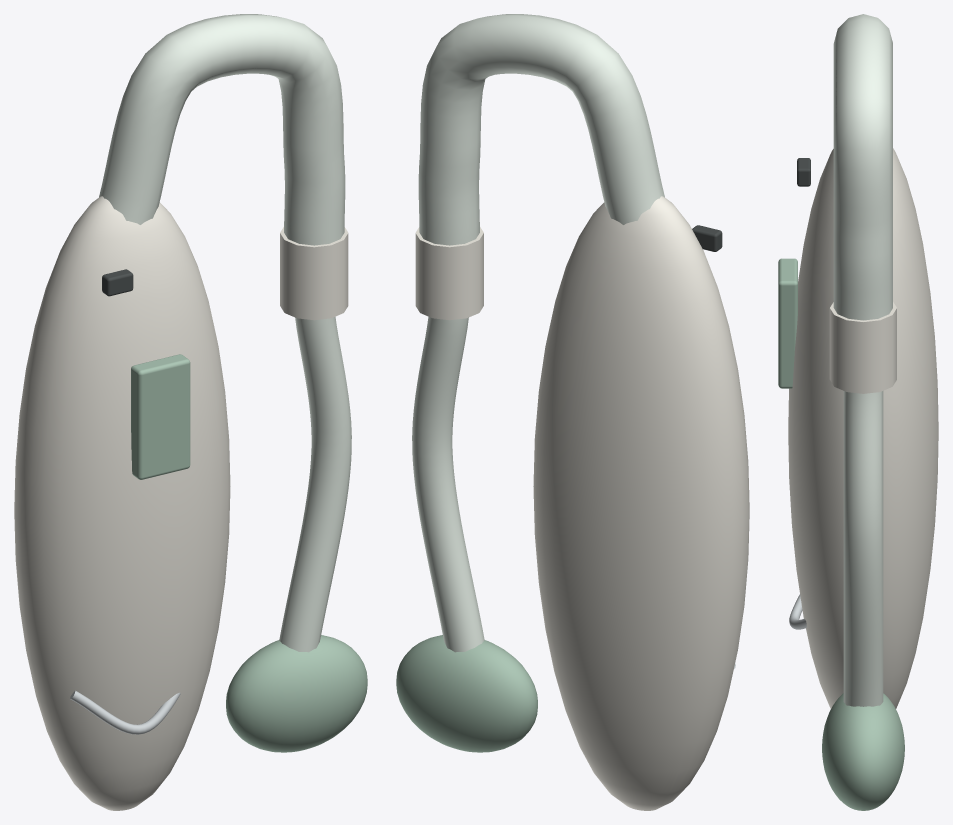
The model's file is hearing-aid-and-audiology-clinic-behind-ear-hearing-ai-2cab48c1__31742.glb.
3 renders of one model, left to right at view 1: azimuth 30°, elevation 25°; view 2: azimuth 150°, elevation 25°; view 3: azimuth 270°, elevation 25°, orthographic.
Visible parts, largest first — view 1: behind-ear-hearing-aid; view 2: behind-ear-hearing-aid; view 3: behind-ear-hearing-aid.
Part boxes in pixels (bbox=[...]): behind-ear-hearing-aid: bbox=[14, 14, 367, 810]; behind-ear-hearing-aid: bbox=[396, 14, 749, 810]; behind-ear-hearing-aid: bbox=[778, 14, 938, 810].
Bounding box in the file's own units: 0.0197 × 0.042 × 0.0081.
